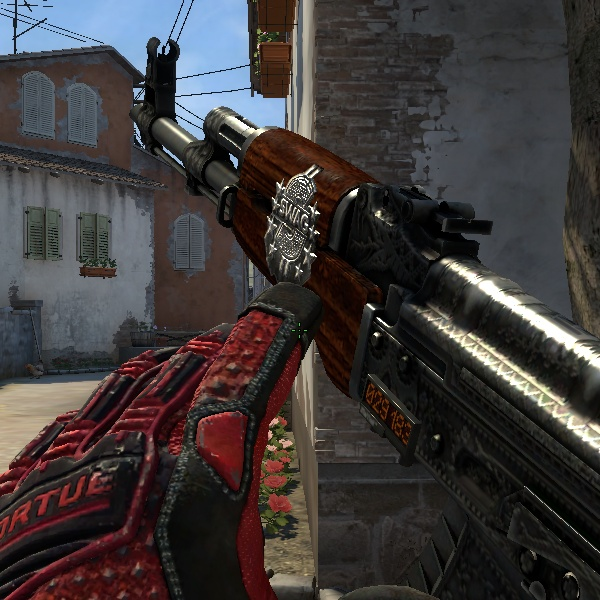t_head: (200, 115, 372, 223)
